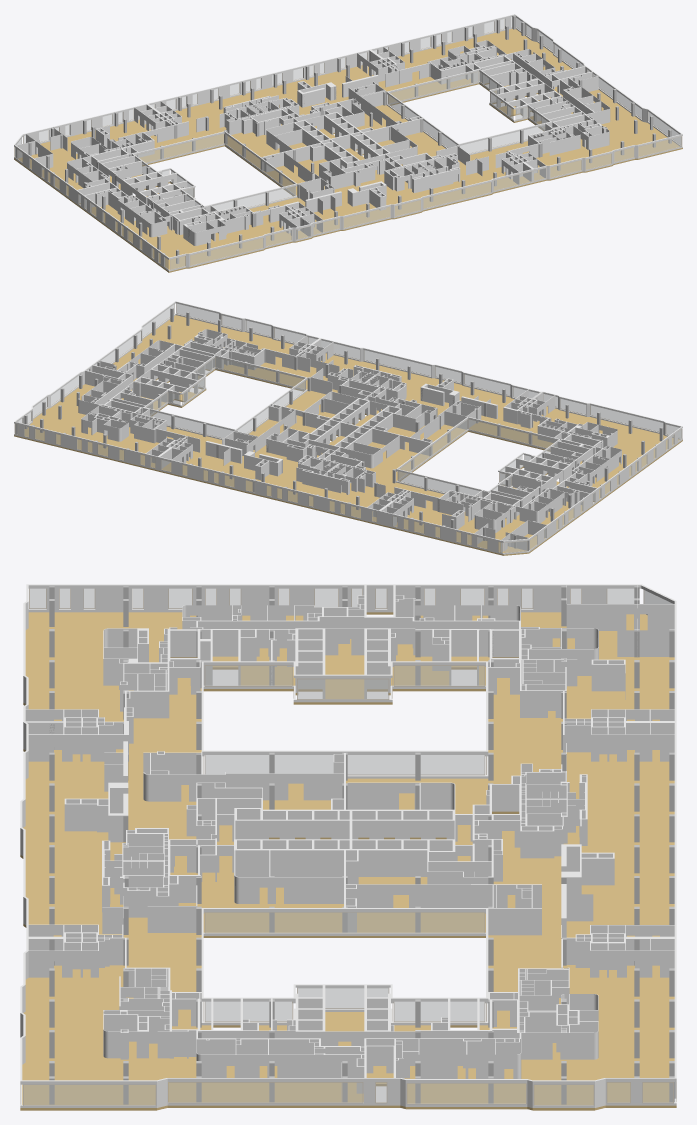
3 views of the same model, one above another, from view 1: azimuth 30°, elevation 25°; view 2: azimuth 150°, elevation 25°; view 3: azimuth 270°, elevation 25° (orthographic). The views are drawn at different scales.
Visible parts, largest first — view 1: ПЕР-028_ПЕР-028.mesh(), СТН-300.001_СТН-300.mesh().001, СТН-298_СТН-298.mesh(), ОК-183_ОК-183.mesh(), ОК-151_ОК-151.mesh(), ОК-456_ОК-456.mesh(), ОК-181.001_ОК-181.mesh(), ОК-462_ОК-462.mesh(), ОК-182_ОК-182.mesh(), ОК-153_ОК-153.mesh(), СТН-110.007_СТН-110.mesh().007, СТН-100.007_СТН-100.mesh().007 (+15 smaller); view 2: ПЕР-028_ПЕР-028.mesh(), СТН-300.001_СТН-300.mesh().001, СТН-298_СТН-298.mesh(), ОК-182_ОК-182.mesh(), ОК-153_ОК-153.mesh(), ОК-181.001_ОК-181.mesh(), ОК-456_ОК-456.mesh(), ОК-183_ОК-183.mesh(), ОК-462_ОК-462.mesh(), ОК-151_ОК-151.mesh(), СТН-110.023_СТН-110.mesh().022, СТН-100.007_СТН-100.mesh().007 (+12 smaller); view 3: ПЕР-028_ПЕР-028.mesh(), СТН-298_СТН-298.mesh(), ОК-181_ОК-181.mesh(), ОК-181.001_ОК-181.mesh(), СТН-101_СТН-101.mesh(), ОК-469_ОК-469.mesh(), СТН-103.006_СТН-103.mesh().006, ОК-465_ОК-465.mesh(), ОК-474_ОК-474.mesh(), СТН-300.004_СТН-300.mesh().004, СТН-110_СТН-110.mesh(), СТН-110.025_СТН-110.mesh().024 (+54 smaller).
Part boxes in pixels (x1,y1,x2,y2): ПЕР-028_ПЕР-028.mesh(): [14, 28, 682, 272]; СТН-300.001_СТН-300.mesh().001: [23, 14, 514, 143]; СТН-298_СТН-298.mesh(): [14, 144, 169, 271]; ОК-183_ОК-183.mesh(): [388, 71, 478, 103]; ОК-151_ОК-151.mesh(): [135, 133, 224, 163]; ОК-456_ОК-456.mesh(): [190, 237, 263, 265]; ОК-181.001_ОК-181.mesh(): [225, 133, 295, 195]; ОК-462_ОК-462.mesh(): [423, 182, 491, 208]; ОК-182_ОК-182.mesh(): [460, 125, 545, 153]; ОК-153_ОК-153.mesh(): [213, 186, 295, 210]; СТН-110.007_СТН-110.mesh().007: [363, 118, 422, 142]; СТН-100.007_СТН-100.mesh().007: [324, 115, 379, 158]; ПЕР-028_ПЕР-028.mesh(): [14, 315, 682, 555]; СТН-300.001_СТН-300.mesh().001: [14, 421, 503, 554]; СТН-298_СТН-298.mesh(): [528, 426, 682, 552]; ОК-182_ОК-182.mesh(): [215, 357, 305, 389]; ОК-153_ОК-153.mesh(): [468, 419, 557, 449]; ОК-181.001_ОК-181.mesh(): [397, 419, 467, 480]; ОК-456_ОК-456.mesh(): [590, 405, 663, 432]; ОК-183_ОК-183.mesh(): [150, 411, 233, 438]; ОК-462_ОК-462.mesh(): [364, 350, 431, 376]; ОК-151_ОК-151.mesh(): [398, 471, 479, 495]; СТН-110.023_СТН-110.mesh().022: [372, 428, 430, 455]; СТН-100.007_СТН-100.mesh().007: [314, 401, 369, 444]; ПЕР-028_ПЕР-028.mesh(): [20, 612, 676, 1110]; СТН-298_СТН-298.mesh(): [27, 584, 641, 612]; ОК-181_ОК-181.mesh(): [204, 912, 485, 933]; ОК-181.001_ОК-181.mesh(): [204, 755, 485, 775]; СТН-101_СТН-101.mesh(): [234, 849, 427, 876]; ОК-469_ОК-469.mesh(): [168, 1082, 363, 1103]; СТН-103.006_СТН-103.mesh().006: [235, 819, 454, 839]; ОК-465_ОК-465.mesh(): [23, 1084, 156, 1105]; ОК-474_ОК-474.mesh(): [406, 1083, 526, 1104]; СТН-300.004_СТН-300.mesh().004: [566, 604, 674, 630]; СТН-110_СТН-110.mesh(): [239, 877, 343, 903]; СТН-110.025_СТН-110.mesh().024: [347, 782, 450, 809].
Bounding box in the file's own units: 13531 × 370 × 7554.
